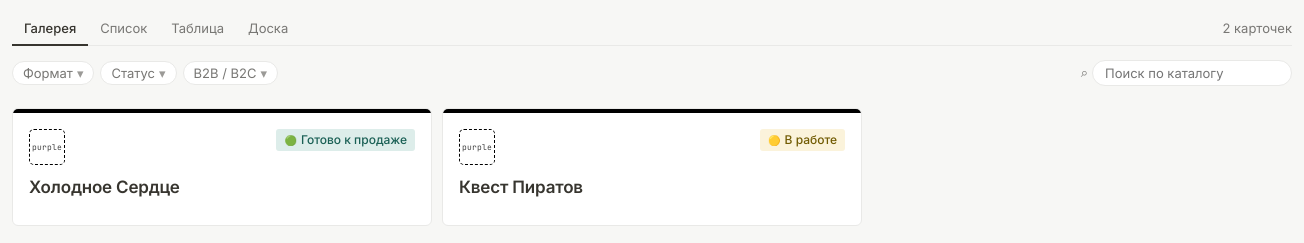
CatalogView › filters by search query
Type "пират" into the search field with placeholder "Поиск по каталогу".
click(1192, 73); type("пират")  # box [1092, 60, 1292, 86]
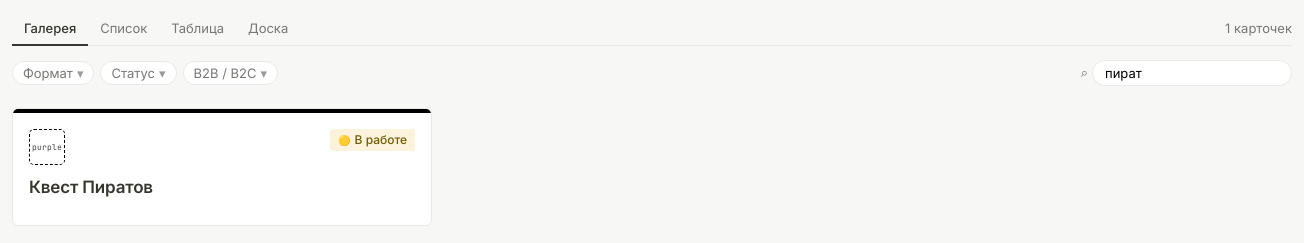
expect the number of links is 1: met, box [12, 108, 432, 226]
